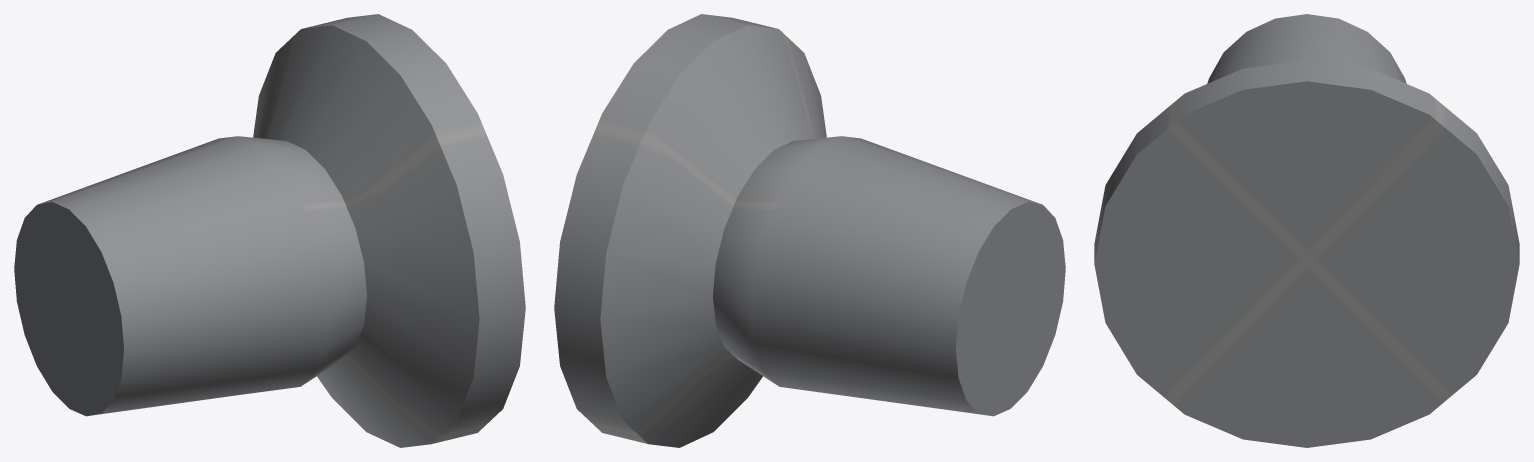
The model's file is Prego_MESH.fbx.
The picture shows the model from 3 angles, left to right: view 1: azimuth 30°, elevation 25°; view 2: azimuth 150°, elevation 25°; view 3: azimuth 270°, elevation 25°; orthographic projection. The views are drawn at different scales.
Visible parts, largest first — view 1: Prego_MESH; view 2: Prego_MESH; view 3: Prego_MESH.
Part boxes in pixels (x1,y1,x2,y2): Prego_MESH: [14, 14, 525, 447]; Prego_MESH: [554, 14, 1065, 447]; Prego_MESH: [1094, 14, 1519, 447].
Bounding box in the file's own units: 0.3833 × 0.417 × 0.4382.
Materials: 1 (1 with a texture image).
